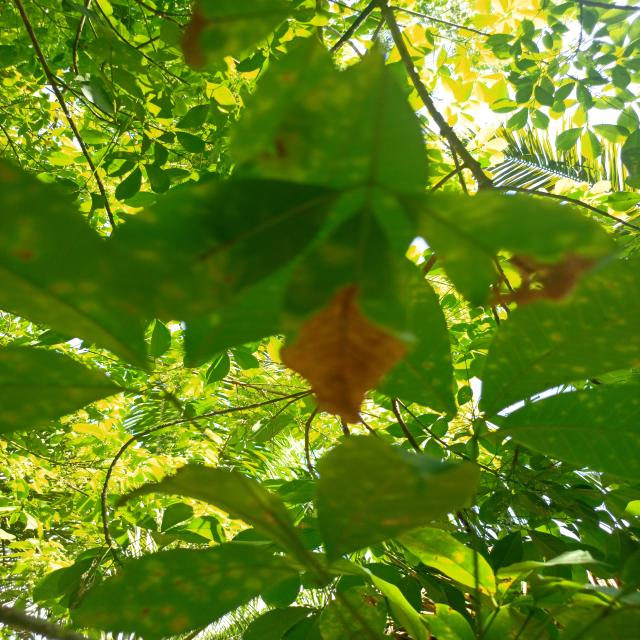Leaf-Blight: (278, 284, 407, 424)
